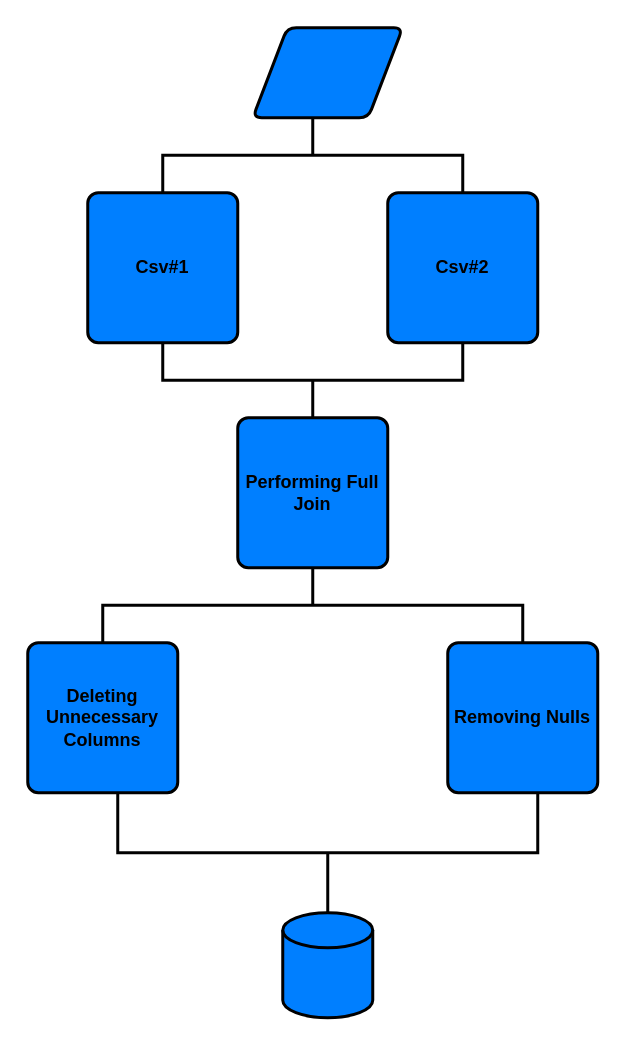
Some shapes in this 624 by 1044 pixel diagram are drawn without their labels. The shapes that lost their labels are listed below. From the top down, each one's centre as x and y in pixels, then its label:
At point (327, 72): "DataLake".
At point (327, 964): "DataBase".
